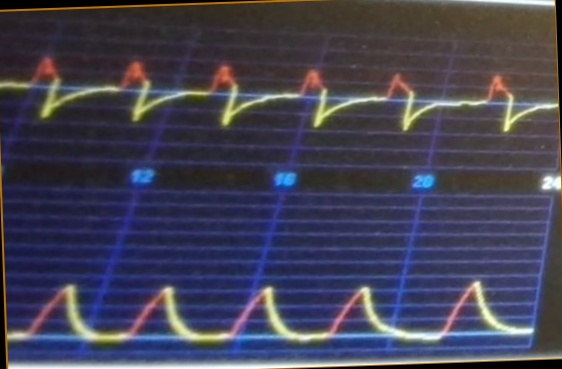Accumulation Flow: (1, 46, 557, 152)
Volume: (8, 261, 534, 349)
